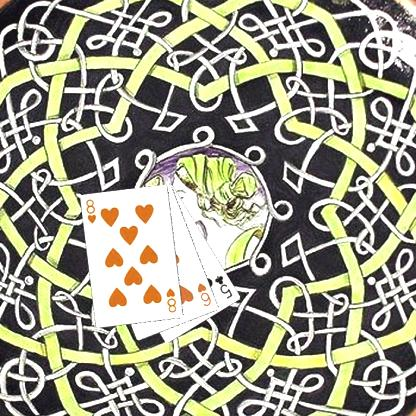5C: (212, 273, 234, 300)
6H: (195, 280, 213, 308)
8H: (163, 285, 178, 314), (83, 197, 98, 225)
